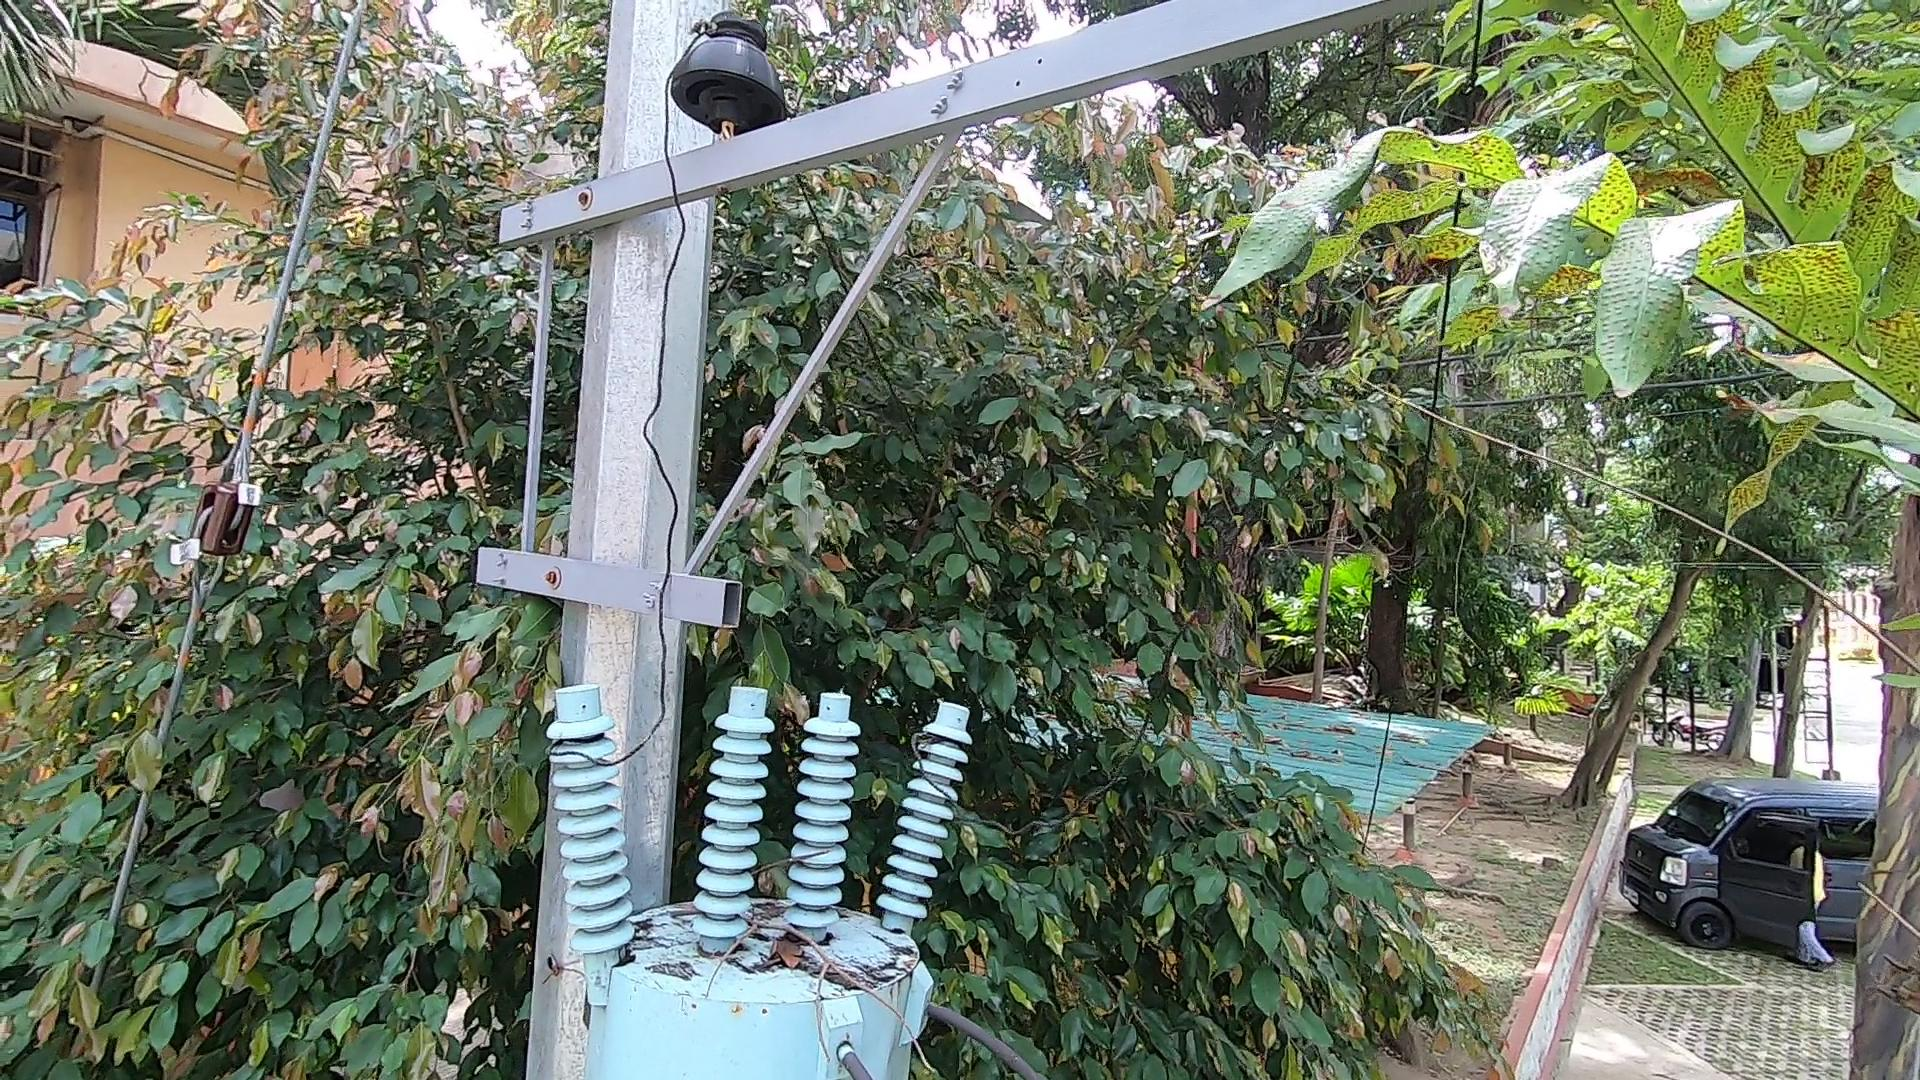tree branch: (717, 889, 956, 1077), (752, 920, 825, 975)
